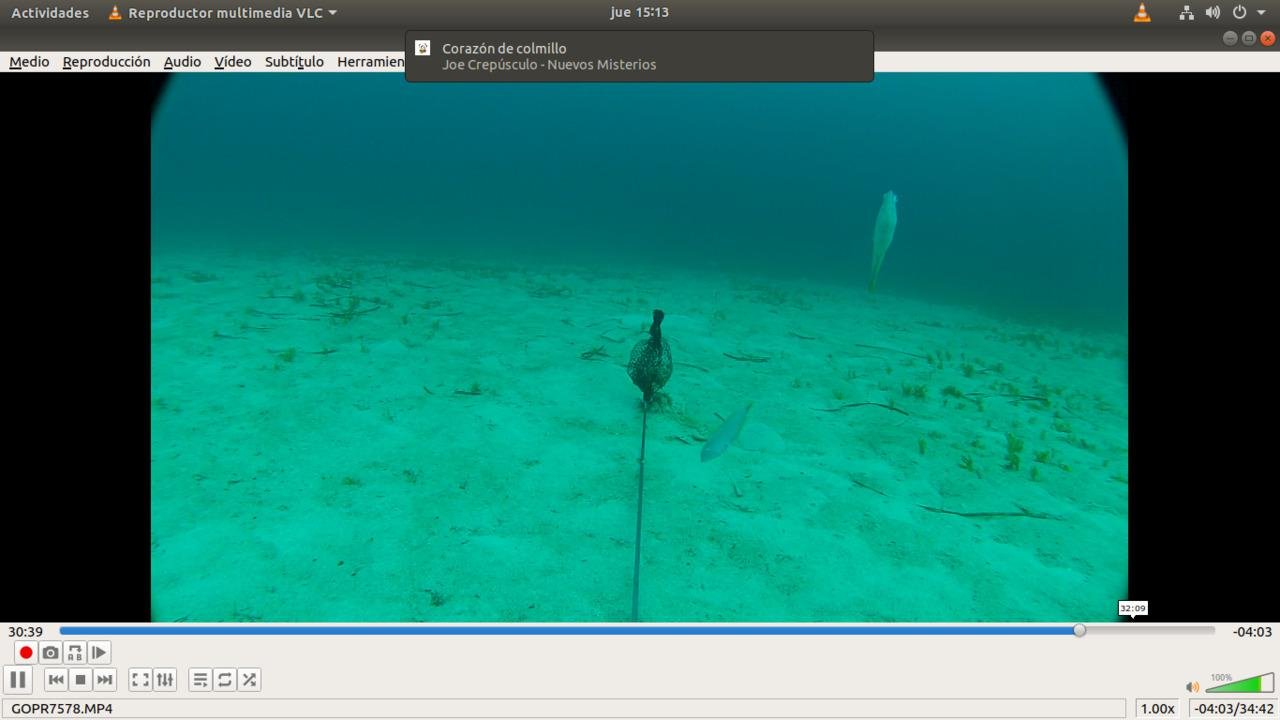raor: (690, 398, 759, 465), (863, 183, 906, 290)
